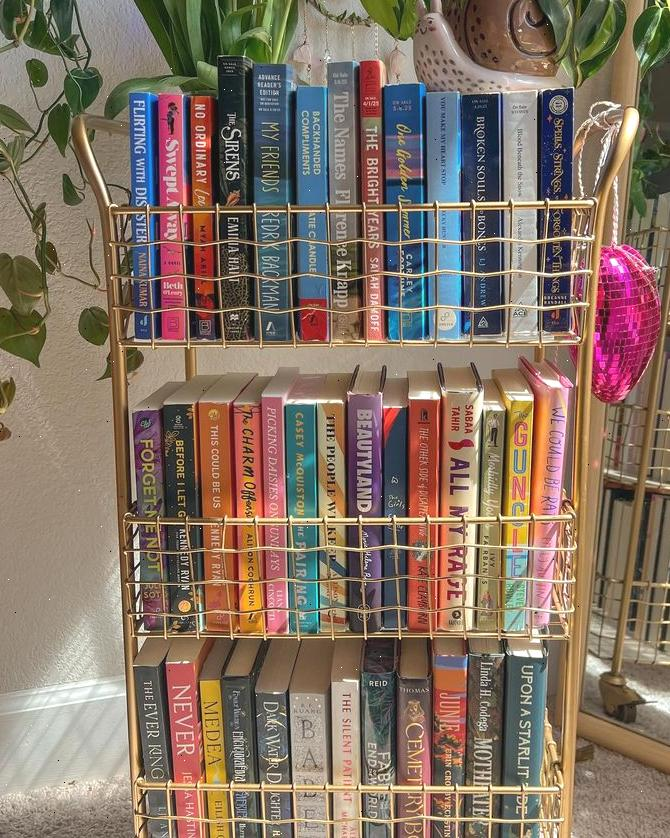book: (284, 369, 332, 621), (439, 363, 483, 624), (382, 82, 426, 334), (492, 368, 536, 620), (231, 371, 275, 621), (260, 368, 303, 622), (193, 377, 236, 629), (251, 62, 290, 336), (214, 55, 251, 337), (345, 364, 384, 624), (288, 635, 337, 838), (499, 633, 547, 838), (458, 91, 498, 334), (253, 637, 301, 838), (220, 633, 267, 838), (129, 633, 176, 838), (422, 88, 461, 334), (162, 633, 207, 838), (536, 86, 574, 328), (502, 90, 540, 330), (406, 370, 442, 623), (195, 636, 240, 838), (294, 77, 329, 335), (326, 61, 359, 330), (318, 373, 353, 616), (157, 91, 191, 338), (472, 386, 506, 629), (127, 91, 160, 337), (429, 634, 468, 838), (359, 635, 398, 838), (328, 636, 367, 838), (381, 379, 412, 628), (358, 61, 386, 331), (189, 92, 219, 336)
